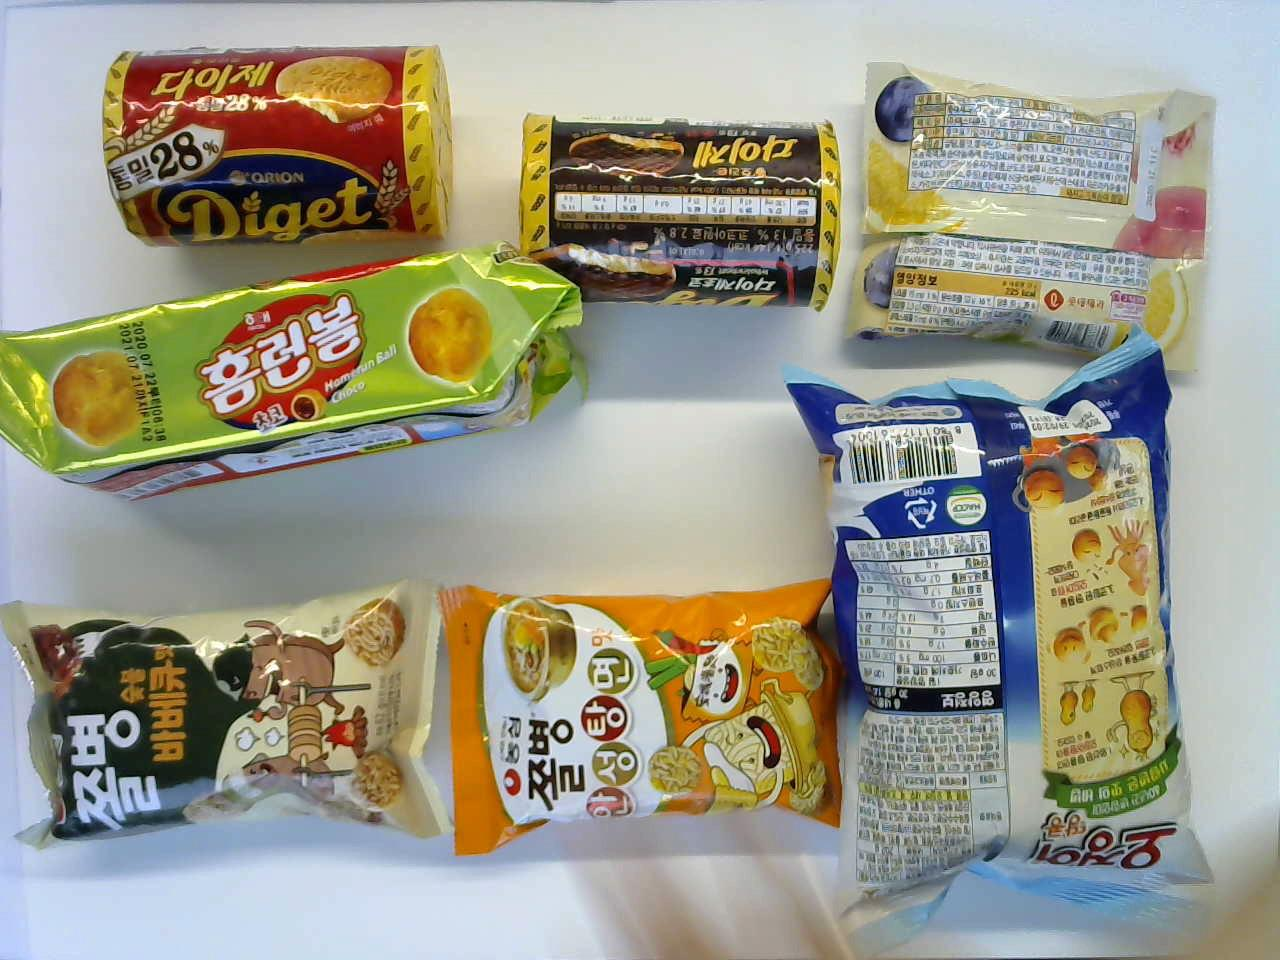diget_choco: (516, 111, 845, 312)
diget_ori: (94, 42, 459, 245)
gumi_gumi: (825, 61, 1248, 357)
homerunball: (6, 239, 602, 505)
jjolbyung_noodle: (428, 575, 850, 854)
jjolbyung_ori: (2, 592, 461, 854)
squid_peanut: (781, 359, 1218, 932)
